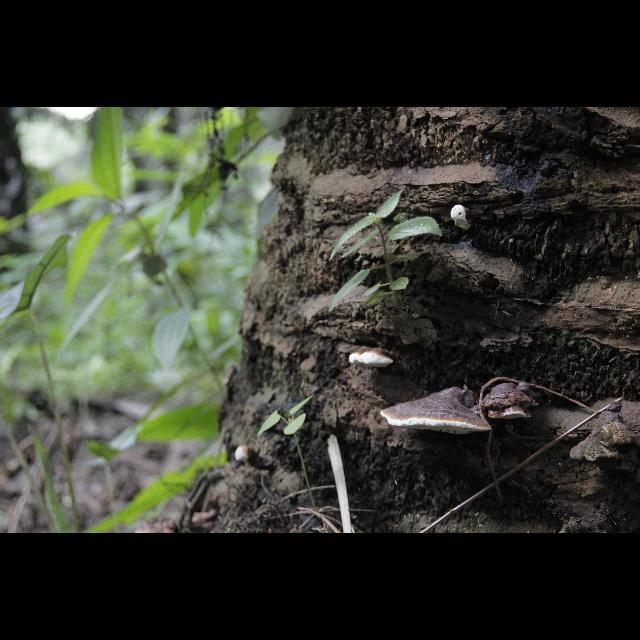ganoderma: (381, 388, 494, 437), (480, 382, 540, 421), (349, 349, 395, 370)
primordium: (451, 205, 473, 231), (236, 446, 255, 466)
